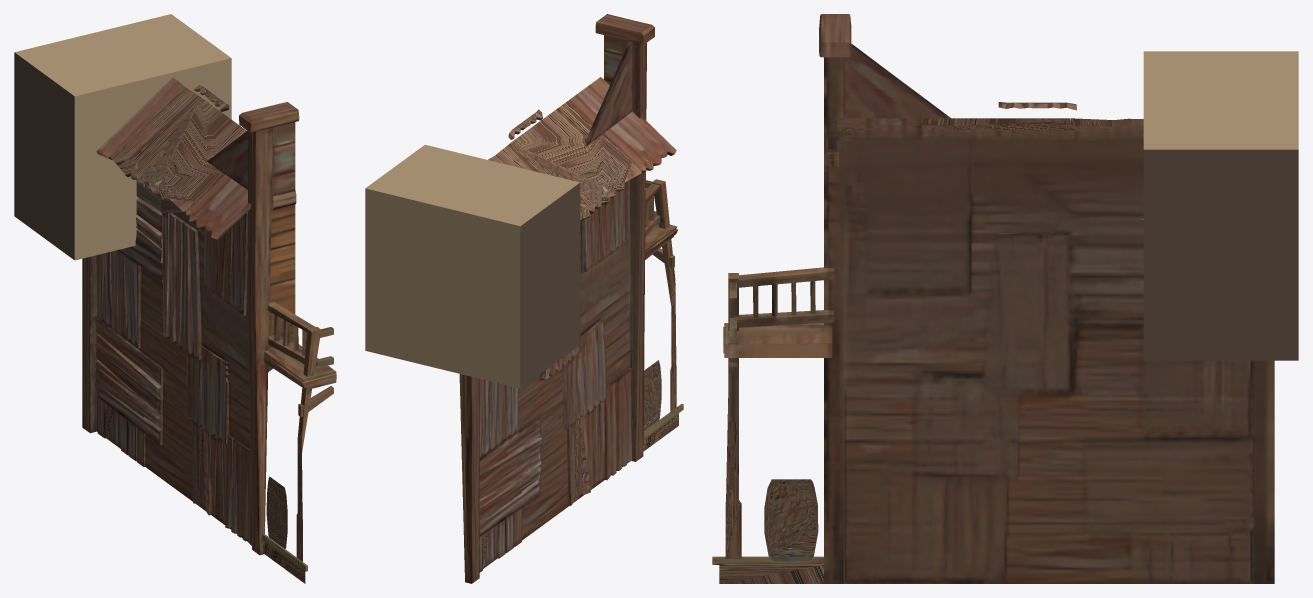
Rendered from hotel_facade_flank.glb.
The picture shows the model from 3 angles, left to right: view 1: azimuth 30°, elevation 25°; view 2: azimuth 150°, elevation 25°; view 3: azimuth 270°, elevation 25°; orthographic projection. The views are drawn at different scales.
Visible parts, largest first — view 1: wl_saloon; view 2: wl_saloon; view 3: wl_saloon.
Boxes of the visible parts, <box> form: wl_saloon: <box>14,14,336,583</box>; wl_saloon: <box>365,14,683,583</box>; wl_saloon: <box>712,14,1298,583</box>.
Size of the model in its own units: 2.4 by 6.4 by 6.05.
Materials: 2 (1 with a texture image).
